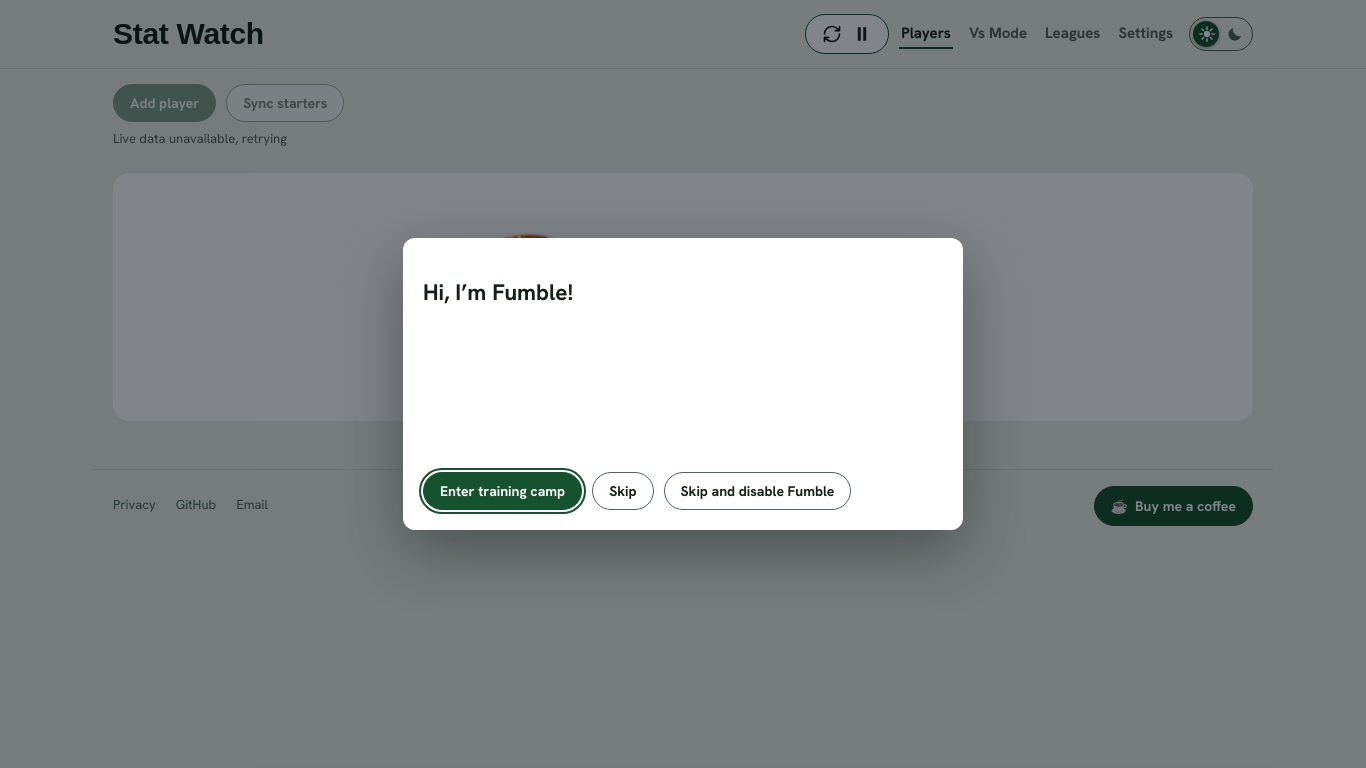
Test: rookie camp › the drills › start from the welcome and point at the Leagues tab while the user is elsewhere
The image size is (1366, 768).
Click the button "Enter training camp": x=503, y=492 [423,472,582,510]
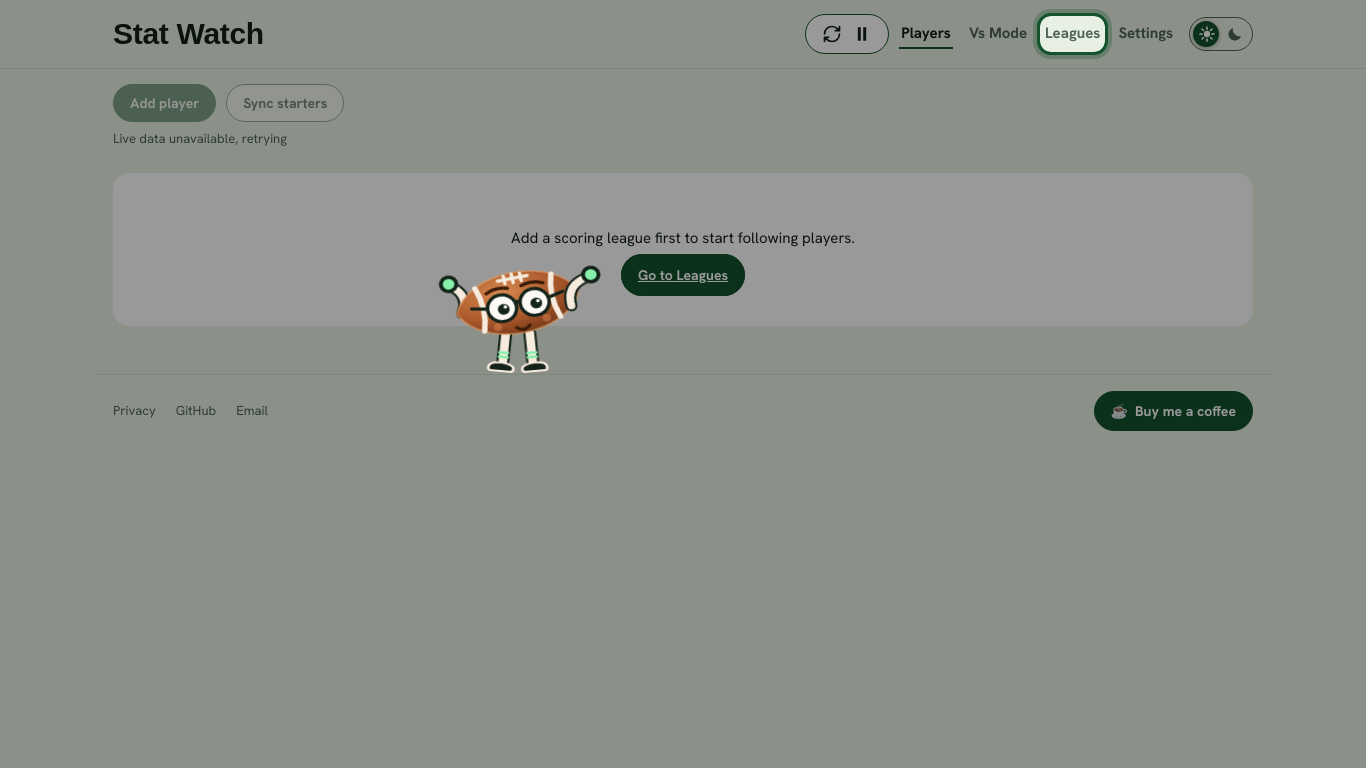
Result: the element with class "camp-ring" is shown at [1037,13,1108,55]
